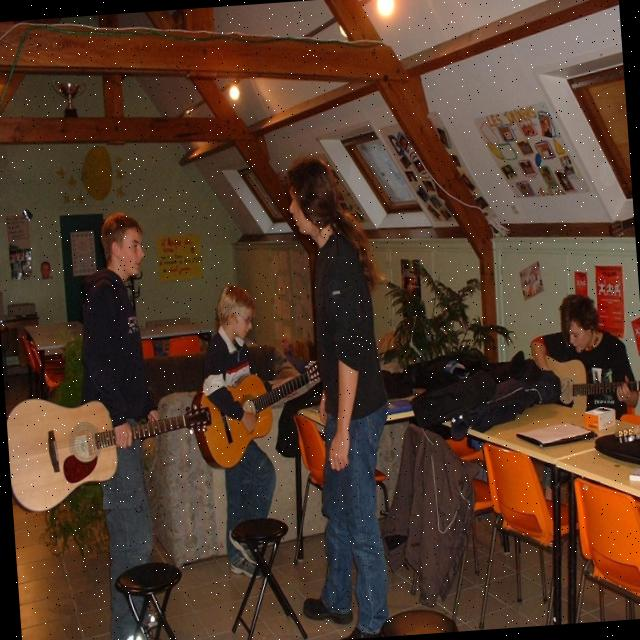guitar: (6, 384, 220, 514), (187, 361, 330, 474), (532, 346, 640, 417)
